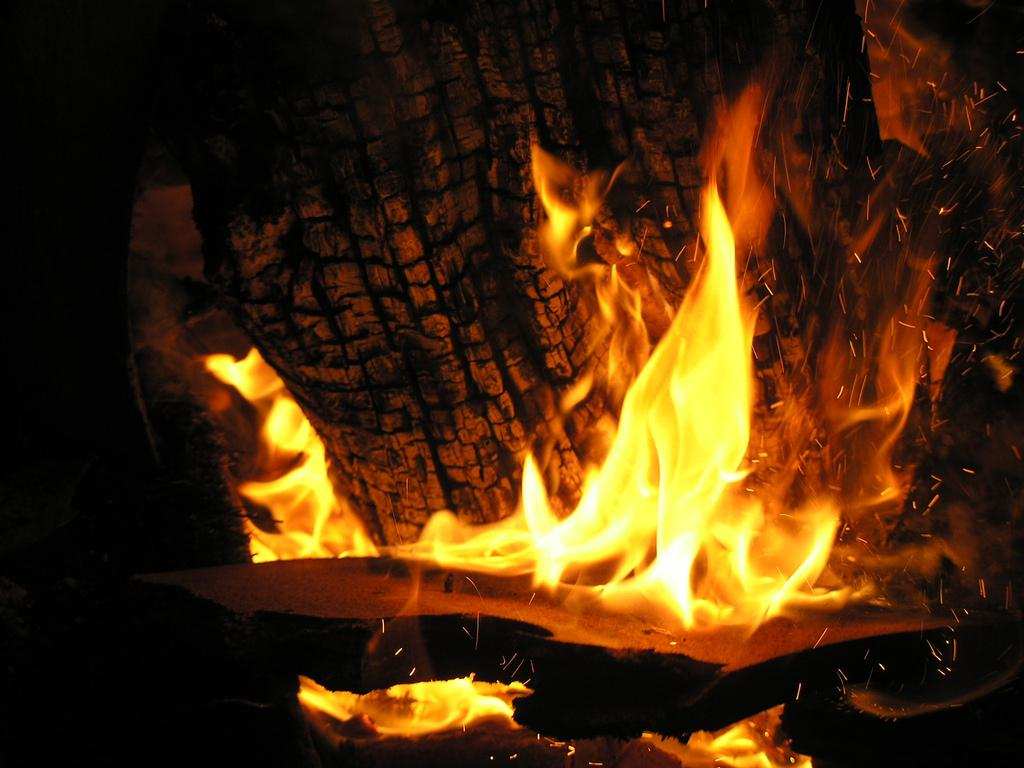fire: (532, 288, 752, 628), (244, 462, 382, 562)
